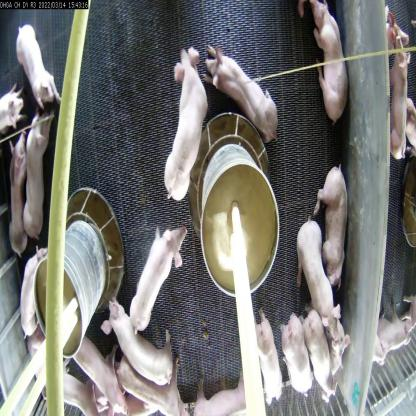Pig: (164, 50, 218, 202), (205, 49, 288, 144), (128, 223, 184, 346), (103, 303, 182, 386), (306, 0, 350, 120), (23, 122, 64, 237), (314, 158, 348, 296), (77, 329, 123, 415), (15, 21, 61, 104), (13, 248, 54, 341), (297, 214, 333, 316), (247, 303, 282, 405), (192, 366, 256, 416), (127, 363, 185, 415), (5, 137, 28, 252), (307, 313, 336, 399), (280, 312, 308, 399)
